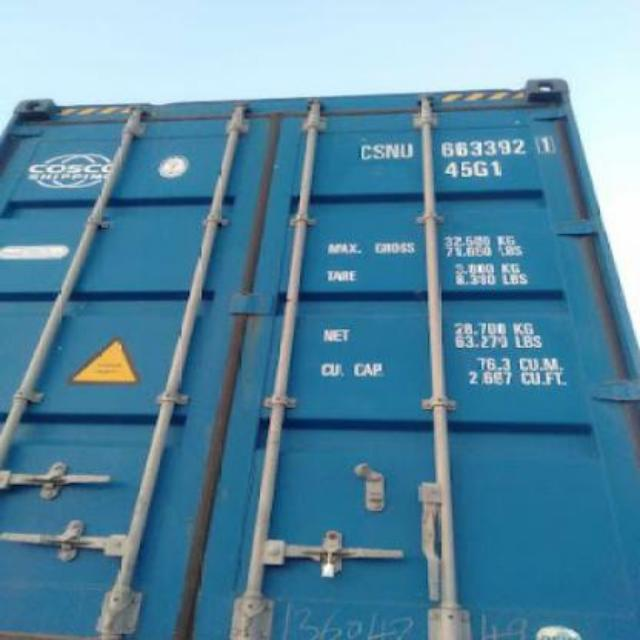1: (540, 137, 550, 153)
2: (512, 140, 528, 152)
3: (468, 139, 484, 157), (484, 139, 498, 159)
6: (441, 141, 454, 159), (456, 139, 466, 159)
9: (496, 138, 512, 158)
C: (360, 144, 372, 160)
N: (386, 143, 399, 159)
S: (372, 143, 386, 161)
U: (401, 143, 414, 159)
